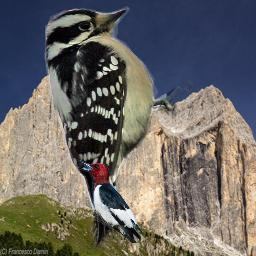Woodpecker: (41, 3, 193, 250), (76, 159, 145, 243)
